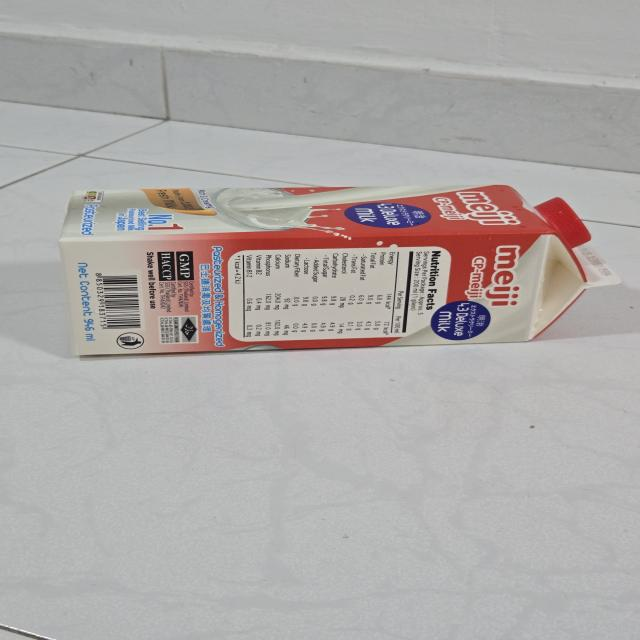milk: (54, 175, 632, 378)
